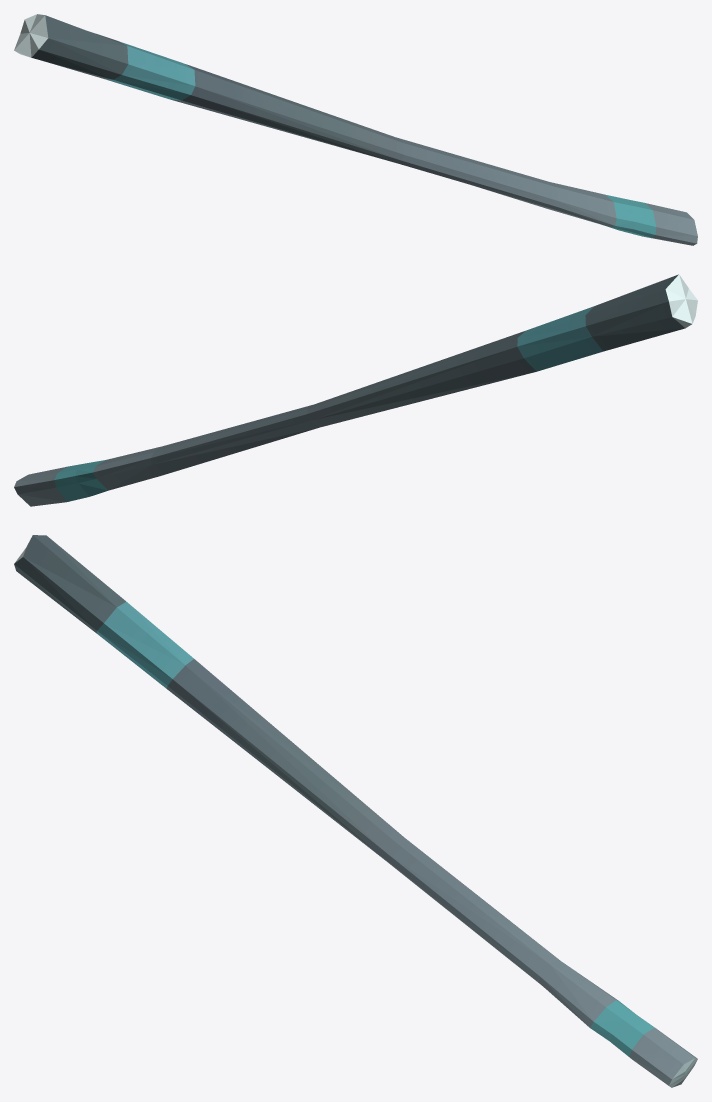
The model's file is CharSkyNPC_Prop_FireStick.glb.
3 views of the same model, one above another, from view 1: azimuth 30°, elevation 25°; view 2: azimuth 150°, elevation 25°; view 3: azimuth 330°, elevation 25° (orthographic). The views are drawn at different scales.
Visible parts, largest first — view 1: CharSkyNPC_Prop_FireStick; view 2: CharSkyNPC_Prop_FireStick; view 3: CharSkyNPC_Prop_FireStick.
Part boxes in pixels (x1,y1,x2,y2): CharSkyNPC_Prop_FireStick: (14, 14, 697, 245); CharSkyNPC_Prop_FireStick: (14, 274, 697, 506); CharSkyNPC_Prop_FireStick: (14, 535, 697, 1087).
Size of the model in its own units: 9.69 by 5.31 by 0.7616.
Materials: 1 (1 with a texture image).
